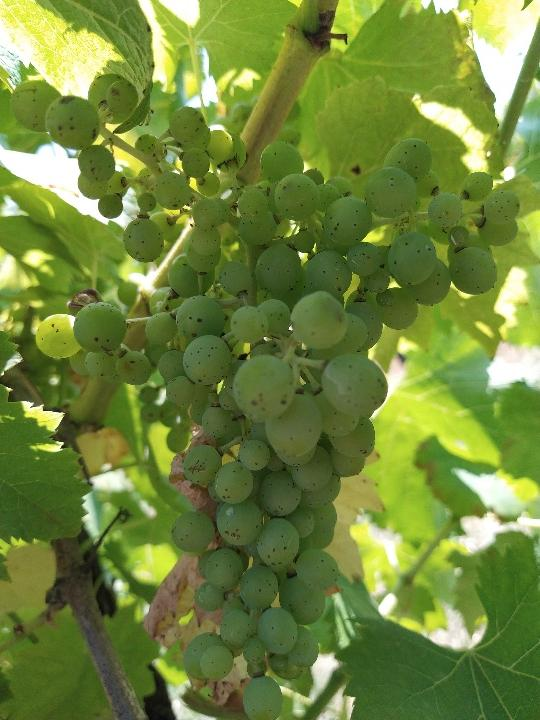grape: (11, 75, 520, 716)
